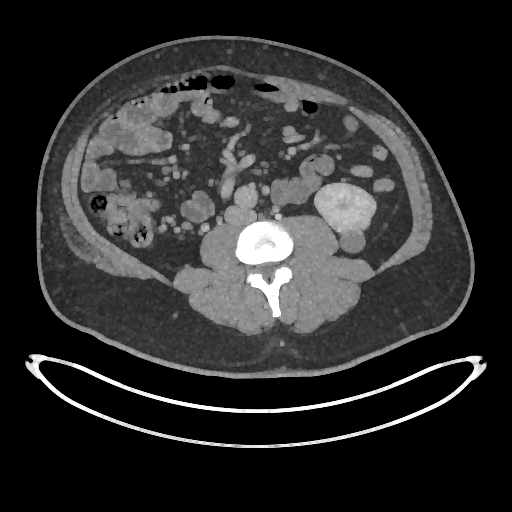Lesion: (337, 225, 368, 256)
